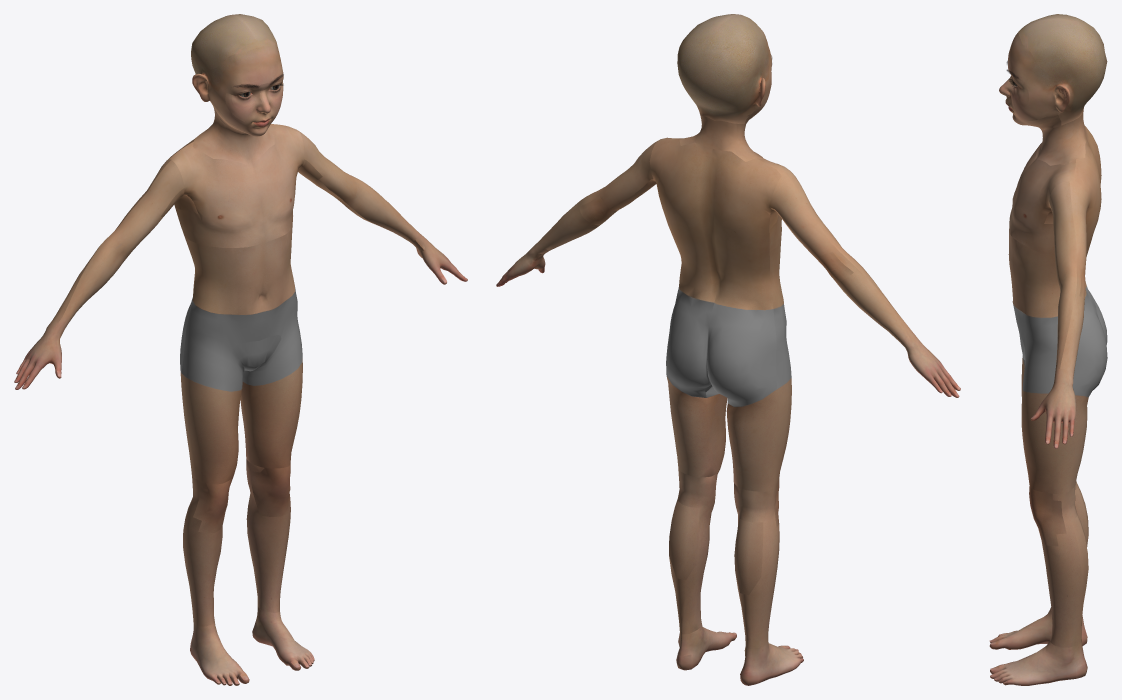
File: child.gltf
3 renders of one model, left to right at view 1: azimuth 30°, elevation 25°; view 2: azimuth 150°, elevation 25°; view 3: azimuth 270°, elevation 25°, orthographic. The views are drawn at different scales.
Visible parts, largest first — view 1: Chest, Thighs, Arm Front Side, Private Area, Legs, Abdomen, Face, Feet, Knees, Scalp, Neck, Backhand (+3 smaller); view 2: Back, Buttocks, Thighs, Scalp, Legs, Arm Back Side, Calf, Feet, Backhand, Neck, Elbow, Private Area (+1 smaller); view 3: Scalp, Thighs, Legs, Feet, Chest, Abdomen, Arm Front Side, Private Area, Face, Buttocks, Arm Back Side, Backhand (+8 smaller).
Boxes of the visible parts, bbox=[...] form: Chest: bbox=[169, 124, 304, 247]; Thighs: bbox=[180, 358, 302, 484]; Arm Front Side: bbox=[58, 130, 418, 327]; Private Area: bbox=[181, 287, 302, 391]; Legs: bbox=[183, 459, 290, 626]; Abdomen: bbox=[185, 226, 294, 314]; Face: bbox=[205, 44, 283, 134]; Feet: bbox=[190, 606, 314, 685]; Knees: bbox=[193, 464, 290, 533]; Scalp: bbox=[191, 14, 277, 118]; Neck: bbox=[193, 110, 276, 165]; Backhand: bbox=[14, 232, 467, 389]; Back: bbox=[649, 139, 781, 309]; Buttocks: bbox=[666, 287, 776, 406]; Thighs: bbox=[666, 376, 791, 491]; Scalp: bbox=[677, 14, 766, 123]; Legs: bbox=[669, 468, 779, 648]; Arm Back Side: bbox=[536, 141, 911, 342]; Calf: bbox=[669, 501, 763, 595]; Feet: bbox=[678, 625, 803, 684]; Backhand: bbox=[496, 242, 960, 397]; Neck: bbox=[679, 115, 764, 161]; Elbow: bbox=[579, 196, 853, 283]; Private Area: bbox=[706, 303, 791, 397]; Scalp: bbox=[1018, 14, 1107, 125]; Thighs: bbox=[1021, 358, 1088, 494]; Legs: bbox=[1041, 481, 1086, 647]; Feet: bbox=[989, 607, 1085, 685]; Chest: bbox=[1009, 142, 1075, 254]; Abdomen: bbox=[1008, 225, 1060, 317]; Arm Front Side: bbox=[1049, 181, 1076, 369]; Private Area: bbox=[1013, 304, 1057, 393]; Face: bbox=[1005, 31, 1057, 122]; Buttocks: bbox=[1072, 285, 1107, 396]; Arm Back Side: bbox=[1060, 181, 1088, 373]; Backhand: bbox=[1030, 369, 1075, 448].
Size of the model in its own units: 0.8841 by 1.19 by 0.1981.
6 materials, 5 textured.
